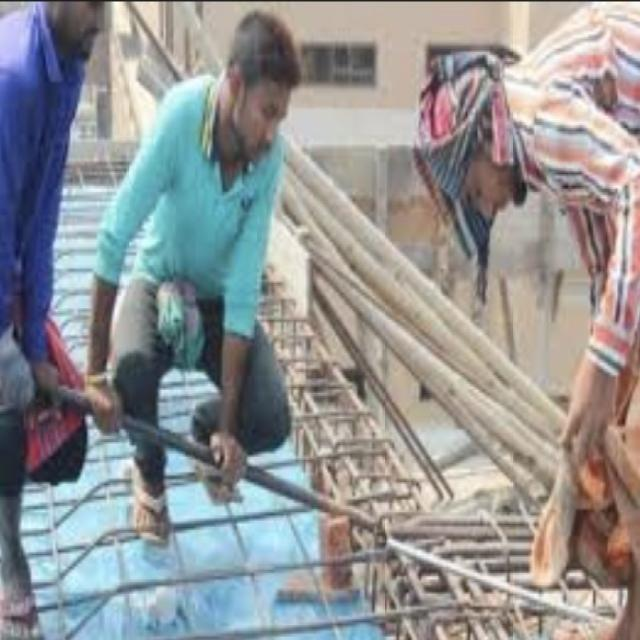no-boots: (0, 452, 65, 640), (126, 455, 188, 560)
no-gloves: (548, 329, 637, 505), (204, 413, 256, 497), (86, 372, 134, 448)
no-helmet: (416, 33, 556, 250), (194, 11, 322, 190)
person: (401, 9, 640, 640), (126, 5, 340, 562), (0, 0, 98, 639)
